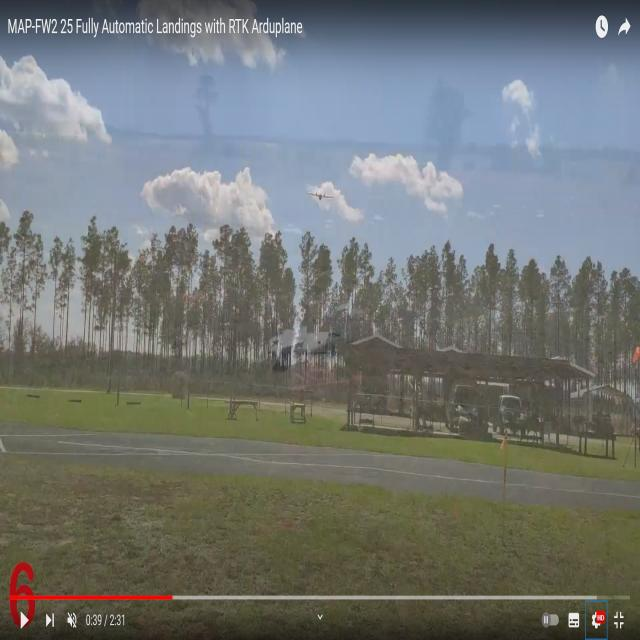iha: (308, 188, 332, 206)
